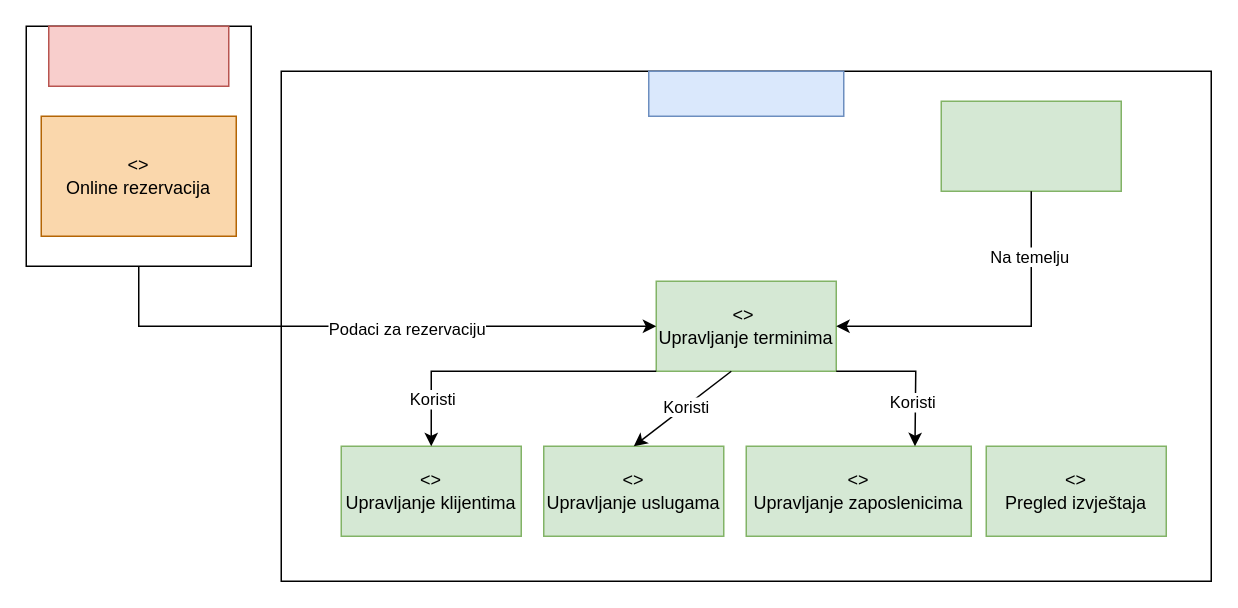
This 1238x608 diagram has some shape labels left out. Each missing label, with the centre of its shape:
"<> Izdavanje računa" goes at (1030,145).
"Administracija salona" goes at (745,93).
"Online sučelje za klijente" goes at (138,55).
